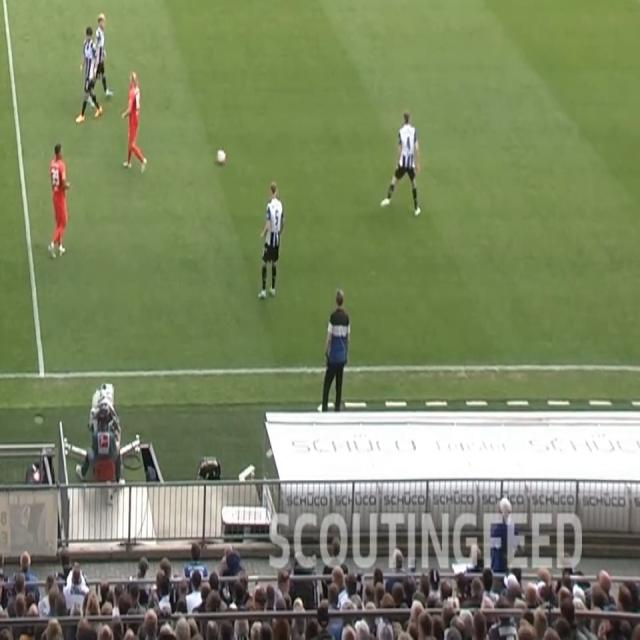ball: (214, 147, 227, 166)
